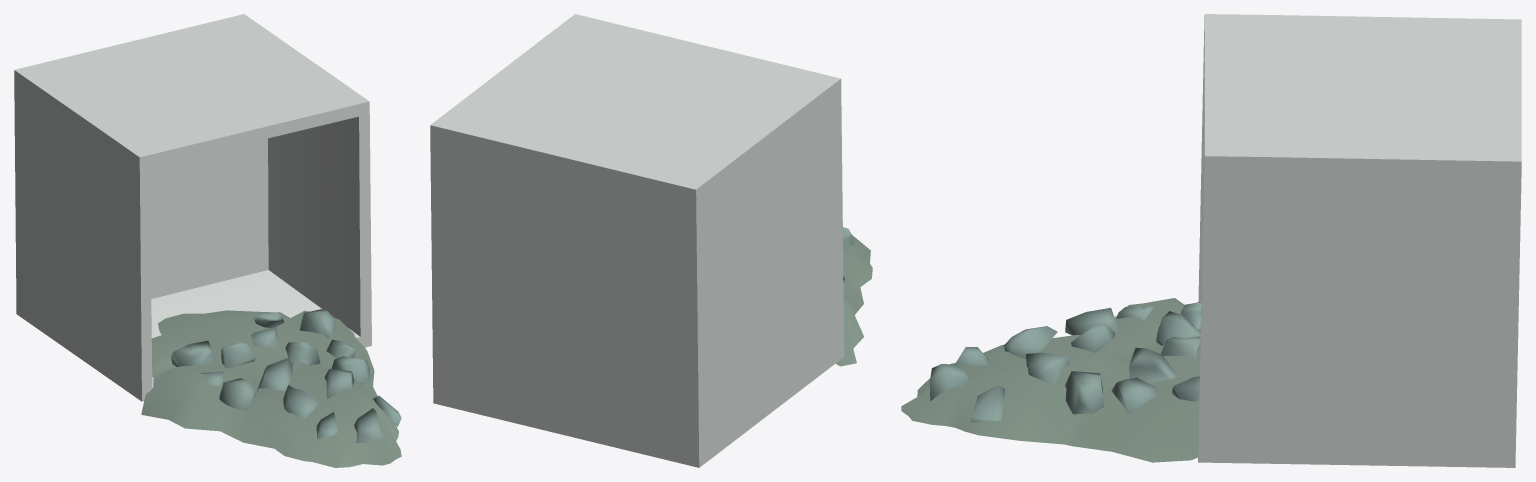
3 views of the same model, side by side, from view 1: azimuth 30°, elevation 25°; view 2: azimuth 150°, elevation 25°; view 3: azimuth 270°, elevation 25° (orthographic). The views are drawn at different scales.
Visible parts, largest first — view 1: G:\FFXIV-MapTools\exports\x6f2\bg\ex5\01_xkt_x6\fld\x6f2\bgp (×3); view 2: G:\FFXIV-MapTools\exports\x6f2\bg\ex5\01_xkt_x6\fld\x6f2\bgp (×2); view 3: G:\FFXIV-MapTools\exports\x6f2\bg\ex5\01_xkt_x6\fld\x6f2\bgp (×3).
Part boxes in pixels (left/top/right/bottom): G:\FFXIV-MapTools\exports\x6f2\bg\ex5\01_xkt_x6\fld\x6f2\bgp (×3): left=14, top=14, right=401, bottom=467; G:\FFXIV-MapTools\exports\x6f2\bg\ex5\01_xkt_x6\fld\x6f2\bgp (×2): left=430, top=14, right=872, bottom=467; G:\FFXIV-MapTools\exports\x6f2\bg\ex5\01_xkt_x6\fld\x6f2\bgp (×3): left=901, top=14, right=1521, bottom=467.
Size of the model in its own units: 1.06 by 1.08 by 1.91.
